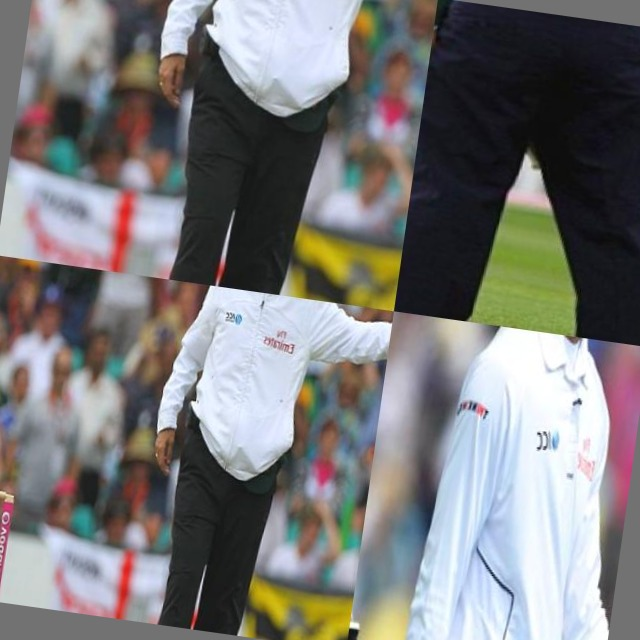No_Action: (385, 317, 640, 640), (346, 311, 516, 640)
No_Ball: (91, 0, 438, 311), (110, 278, 394, 640)
Out: (394, 0, 640, 347)
